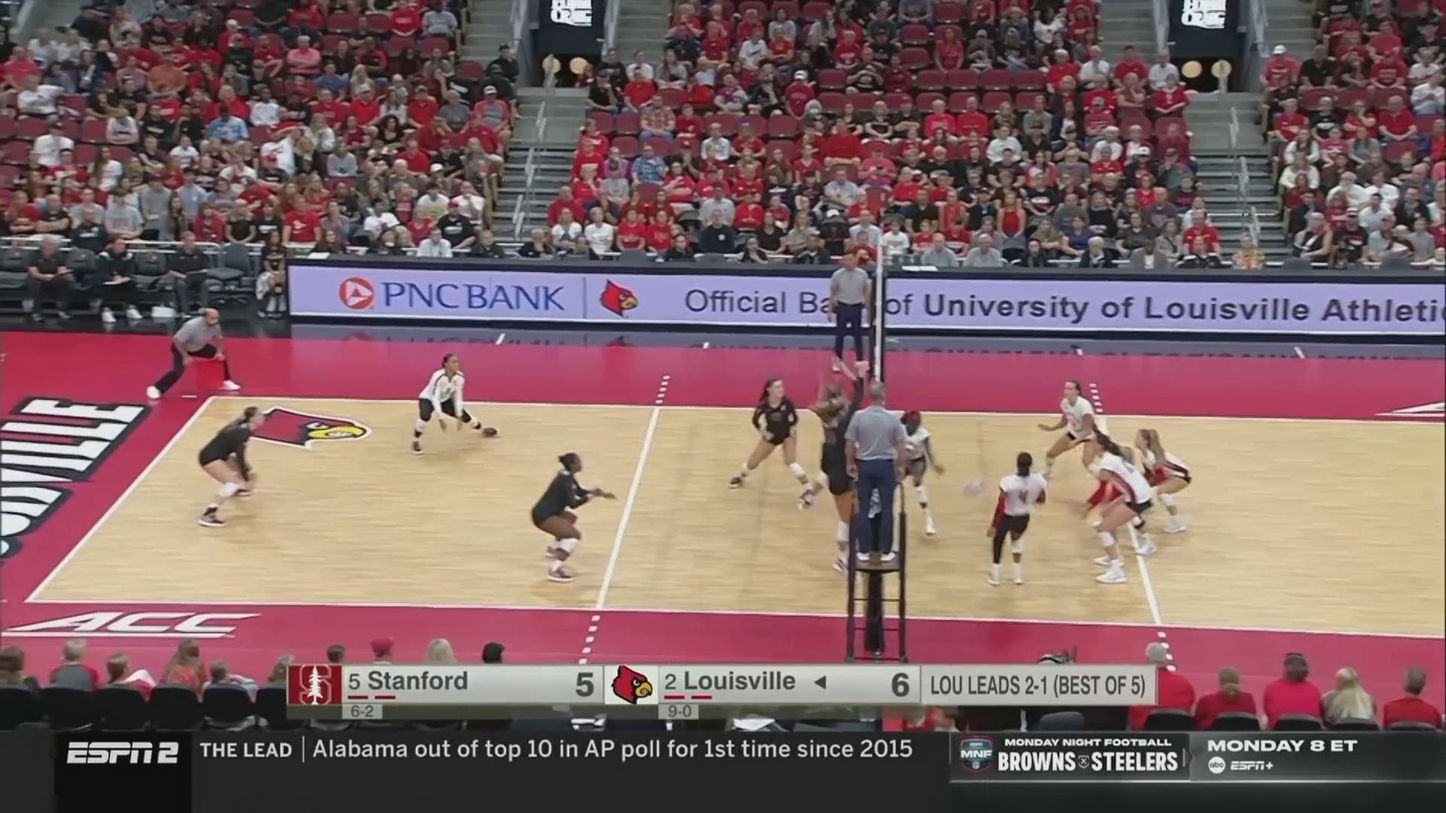player: (728, 378, 821, 501), (1081, 434, 1153, 588), (532, 450, 614, 582), (1039, 379, 1117, 504), (409, 352, 503, 449), (822, 388, 872, 569), (198, 408, 272, 530), (983, 452, 1047, 588), (883, 407, 944, 544), (1092, 444, 1160, 556), (1133, 430, 1200, 542), (825, 382, 866, 537)
refree: (846, 381, 903, 565), (144, 309, 238, 399), (826, 250, 872, 374)
